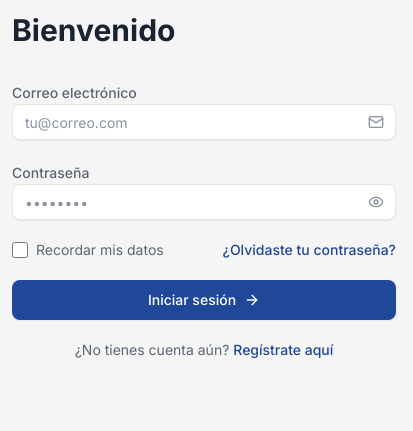
Test: LoginForm — unverified account recovery › does not offer the resend action for a plain credentials failure
The width and height of the screenshot is (413, 431).
Type "candidato@test.example.com" into the field labelled "Correo electrónico" at (204, 122), box top-left (12, 104), bottom-right (396, 140)
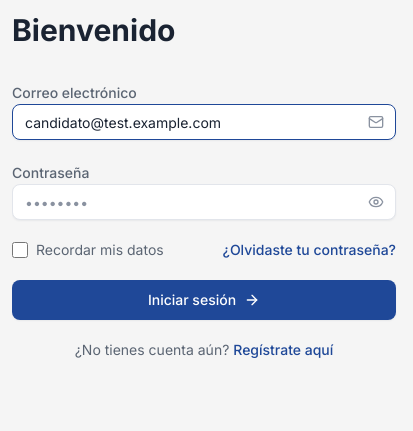
Type "StrongPass123!" into the password field labelled "Contraseña" at (204, 202), box top-left (12, 184), bottom-right (396, 220)
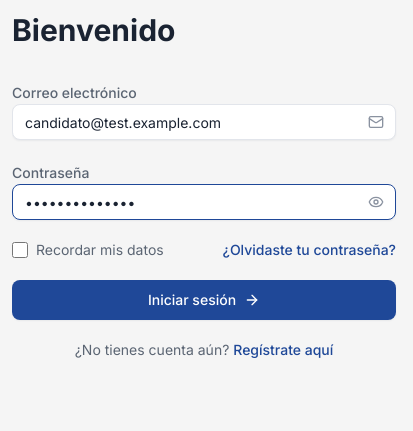
Click the button "Iniciar sesión" at (204, 300), box top-left (12, 280), bottom-right (396, 320)
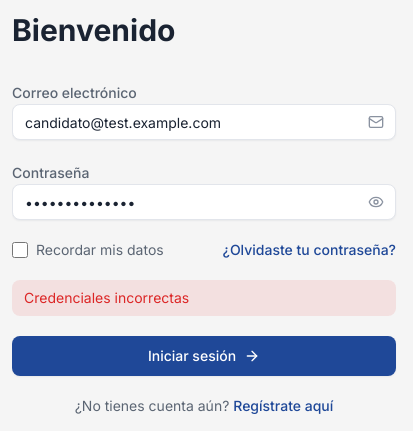
expect the text "Credenciales incorrectas" is shown: met, box top-left (12, 280), bottom-right (396, 316)
